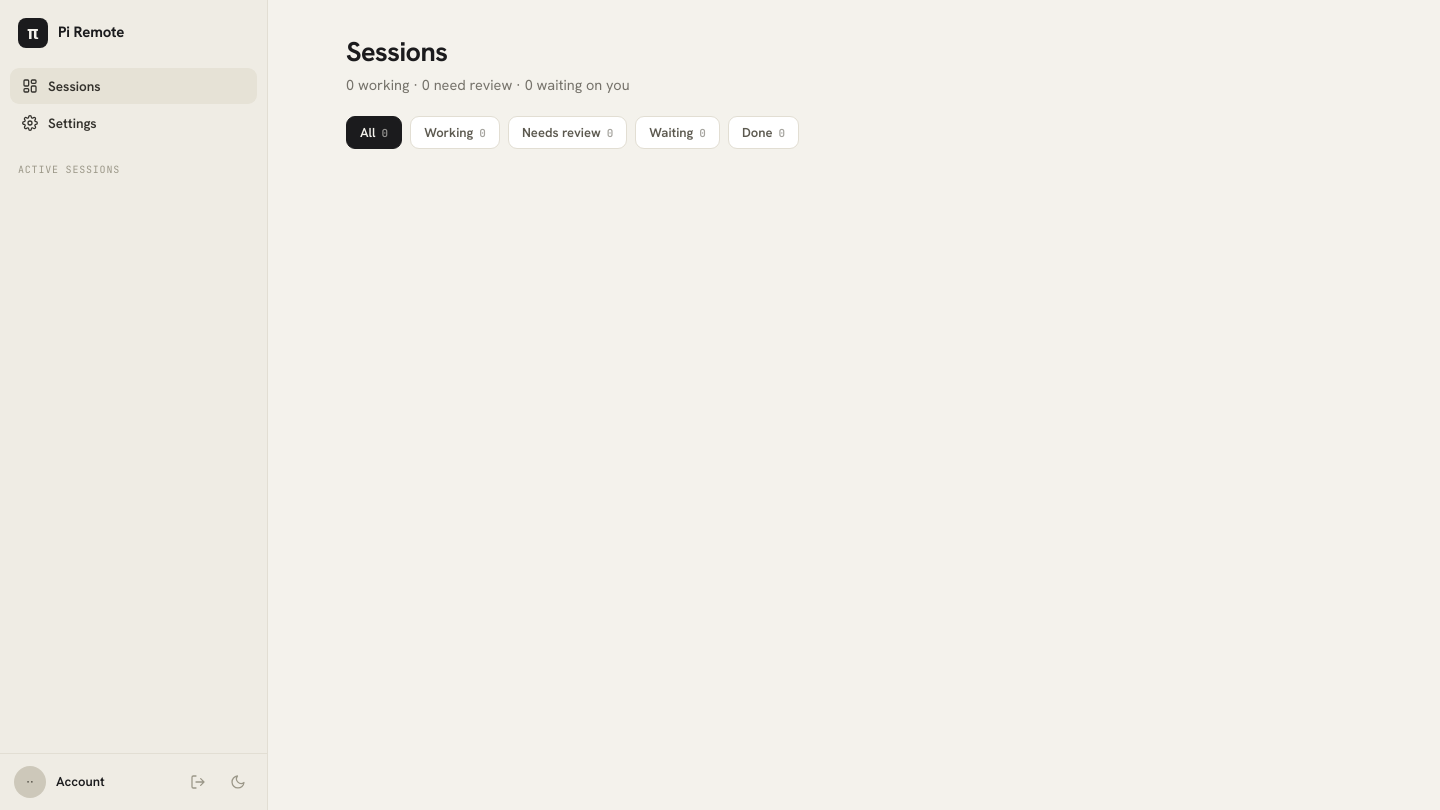
Scenario: App › navigates to the Settings route from the sidebar
What coordinates should you click on to do the following:
click the button "Settings"
I would click on:
 (134, 123)
Its box is [10,105,257,141].
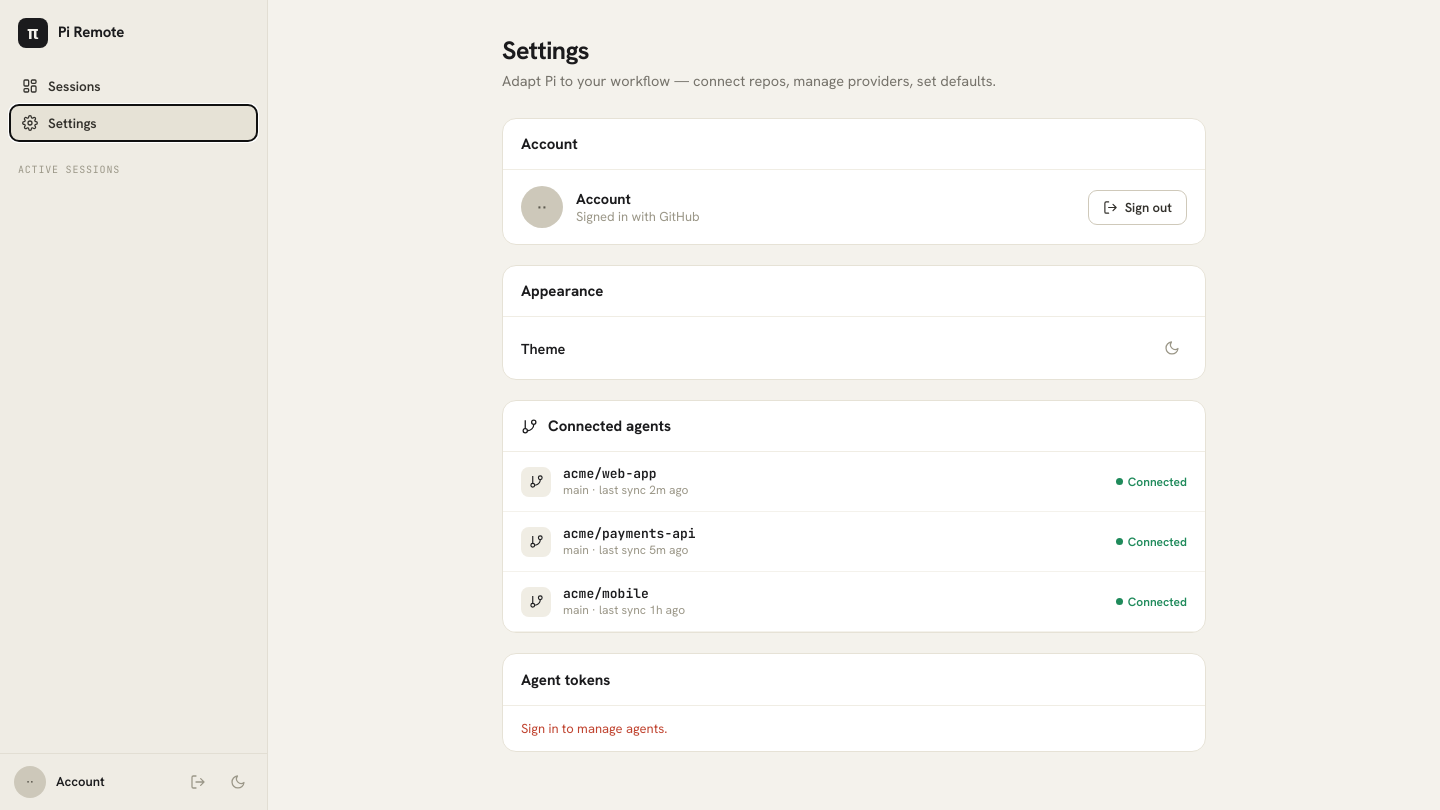
Expected: the heading "Settings" is shown, [502,34,589,67]
Expected: the text "Agent tokens" is shown, [521,670,610,690]
